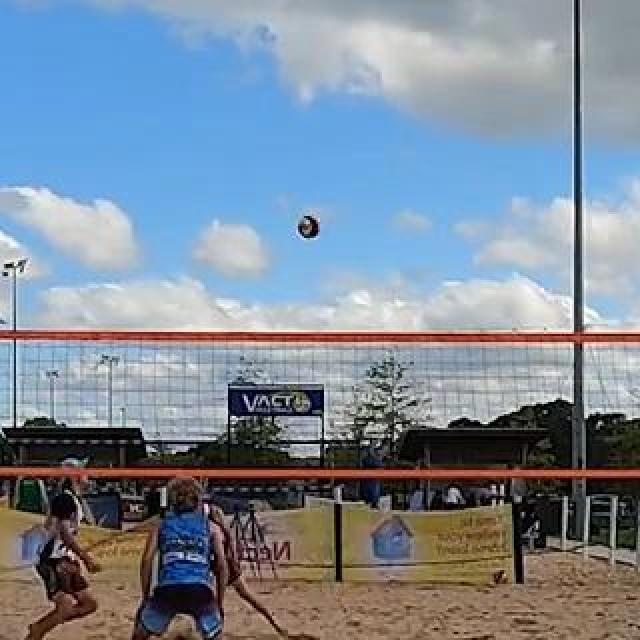volleyball: (298, 214, 320, 238)
